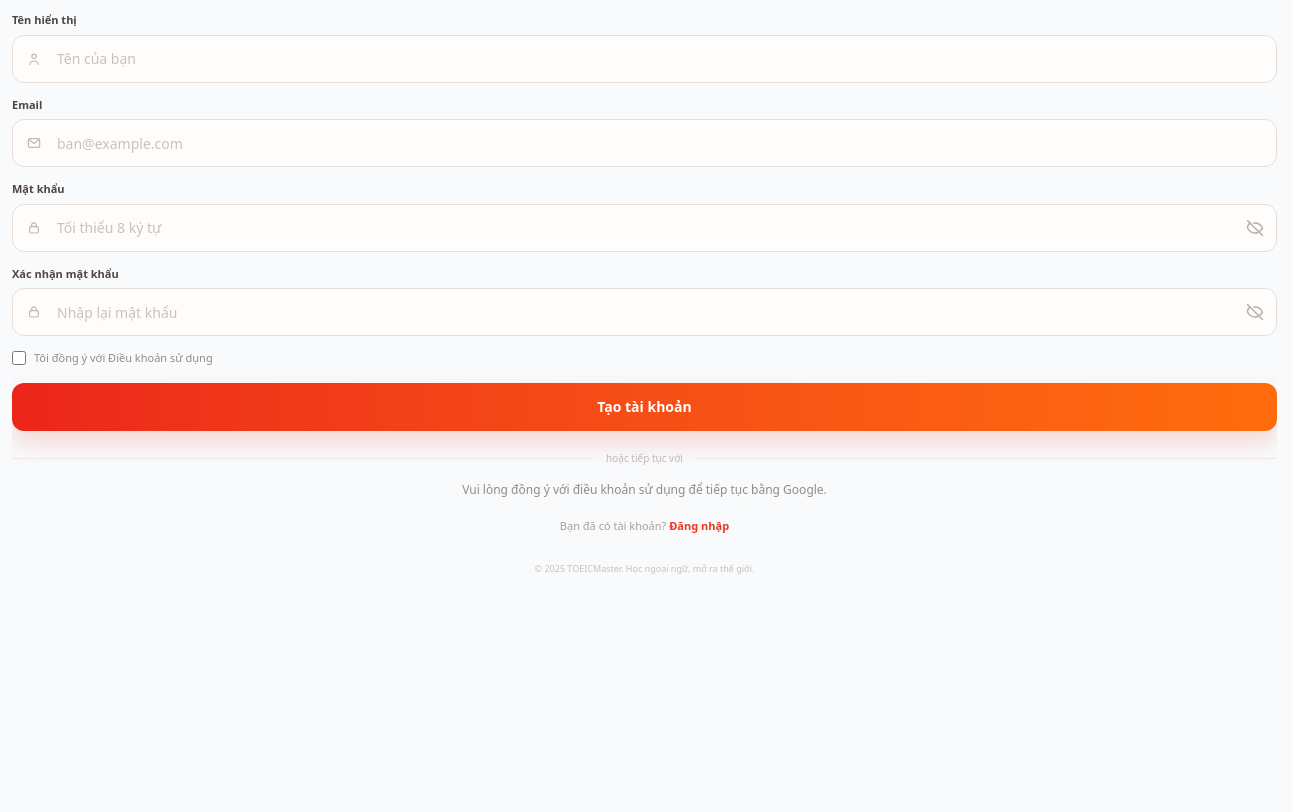
RegisterForm › requires consent before it submits the form
In the field labelled "Tên hiển thị": [644, 58] box [12, 34, 1277, 82], type "Linh"
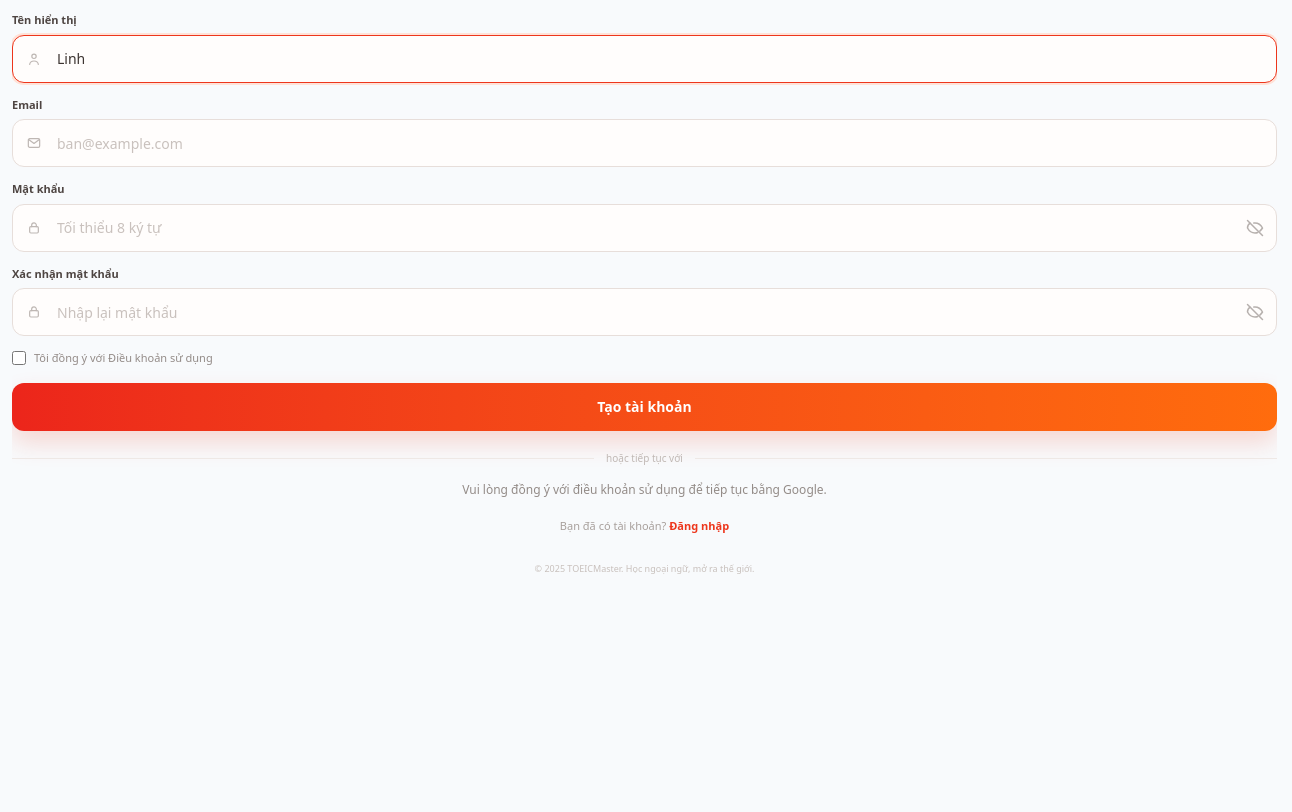
In the field labelled "Email": [644, 143] box [12, 119, 1277, 167], type "linh@example.com"
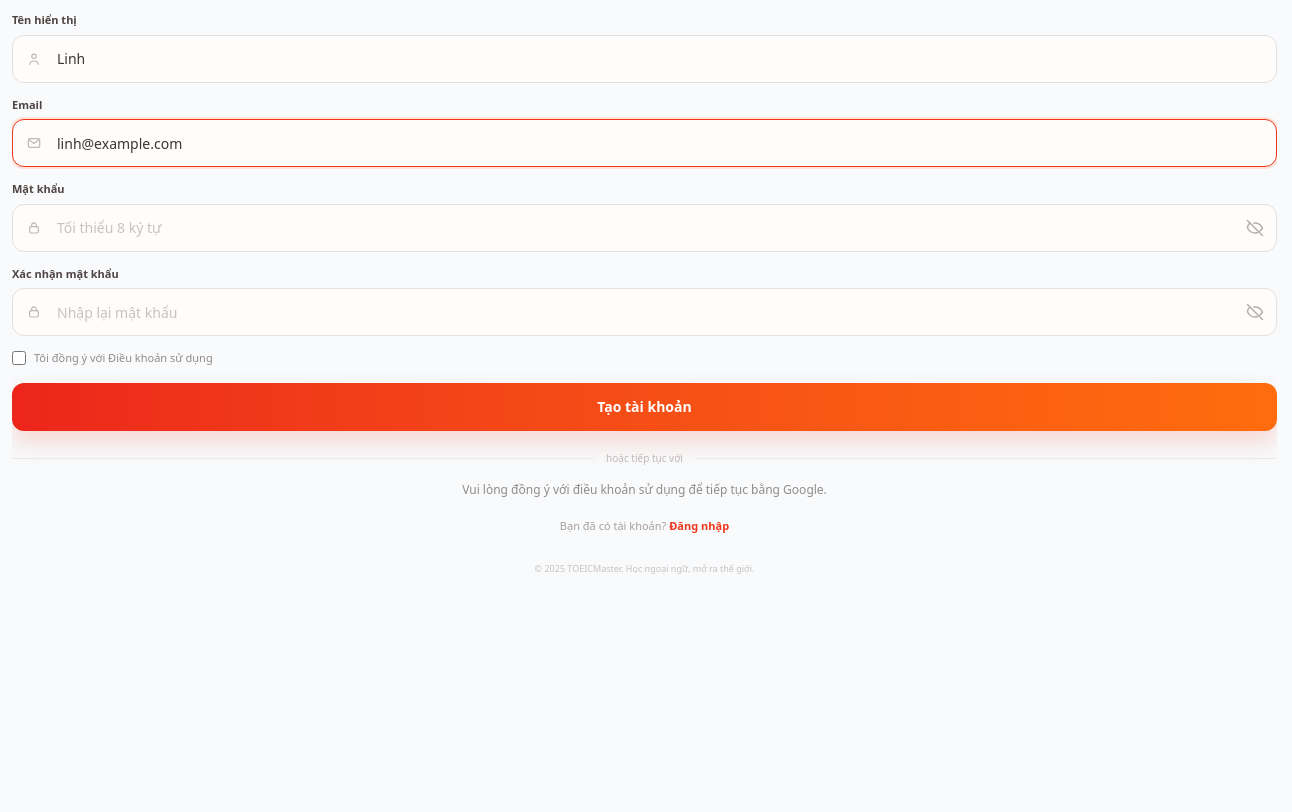
In the password field labelled "Mật khẩu": [644, 228] box [12, 204, 1277, 252], type "password"
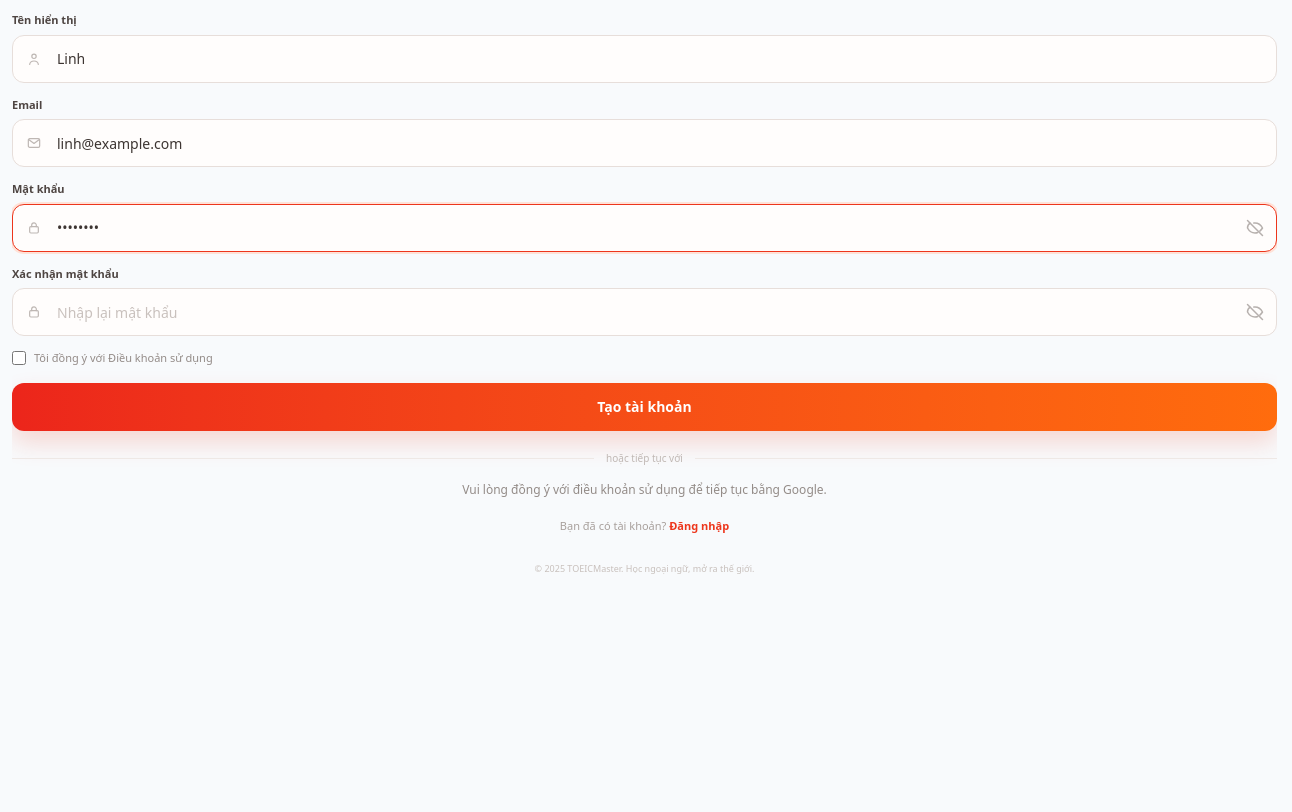
In the password field labelled "Xác nhận mật khẩu": [644, 312] box [12, 288, 1277, 336], type "password"
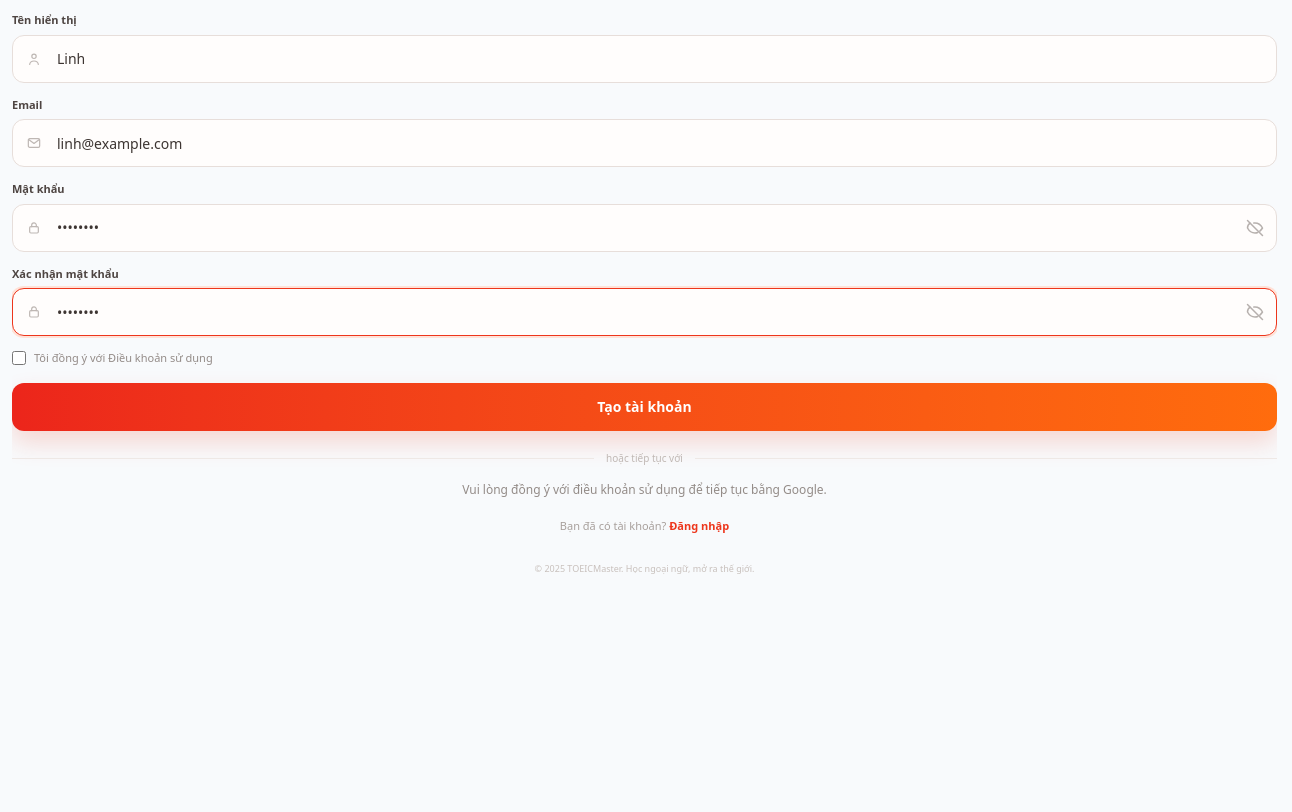
Click the button "Tạo tài khoản": [644, 406] box [12, 382, 1277, 430]
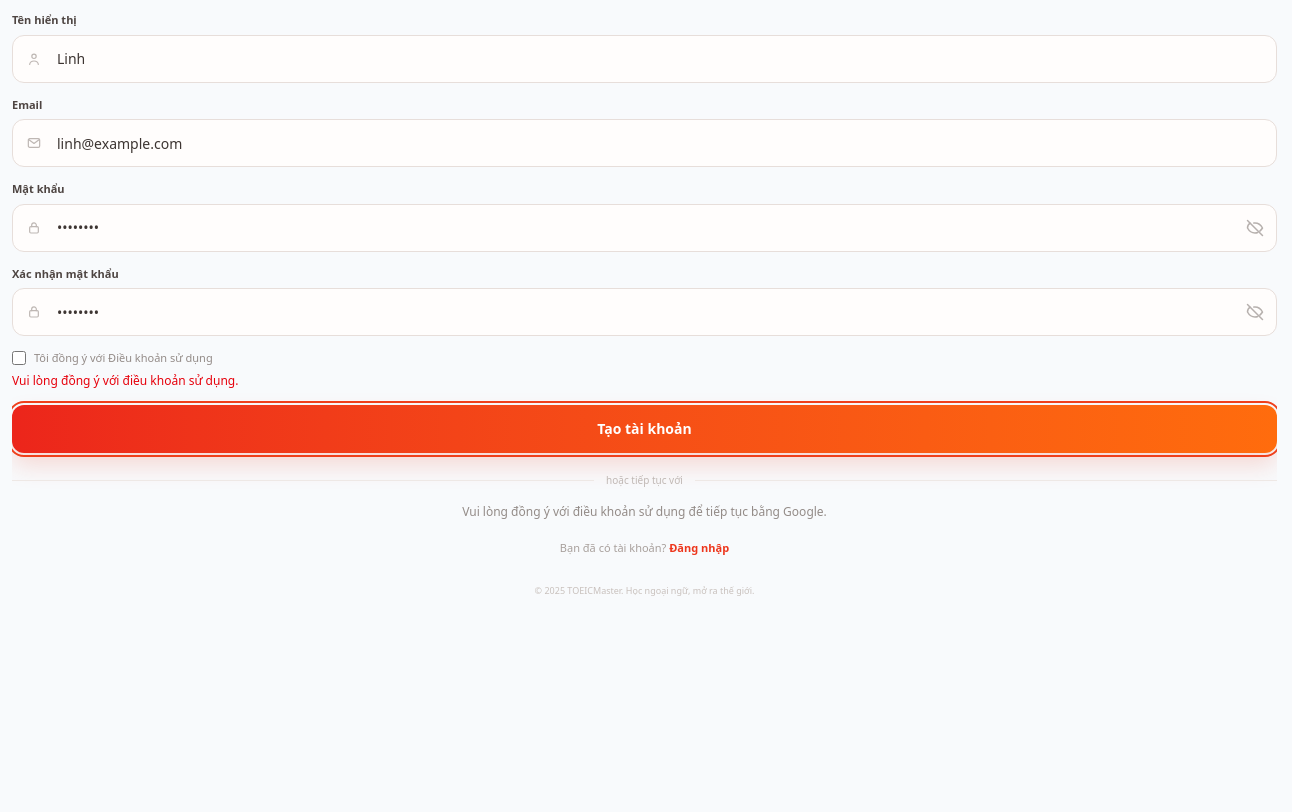
Check: the text "Vui lòng đồng ý với điều khoản sử dụng." is shown, box [12, 372, 238, 388]
